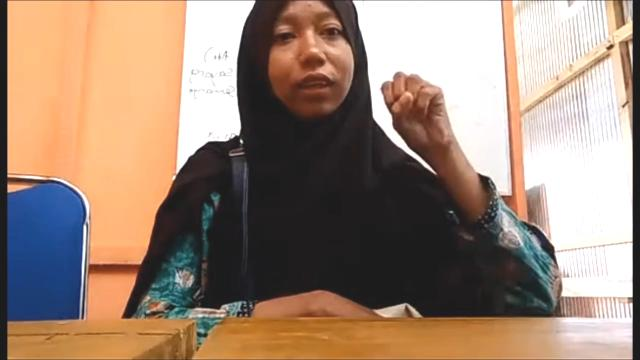E: (380, 69, 454, 151)
